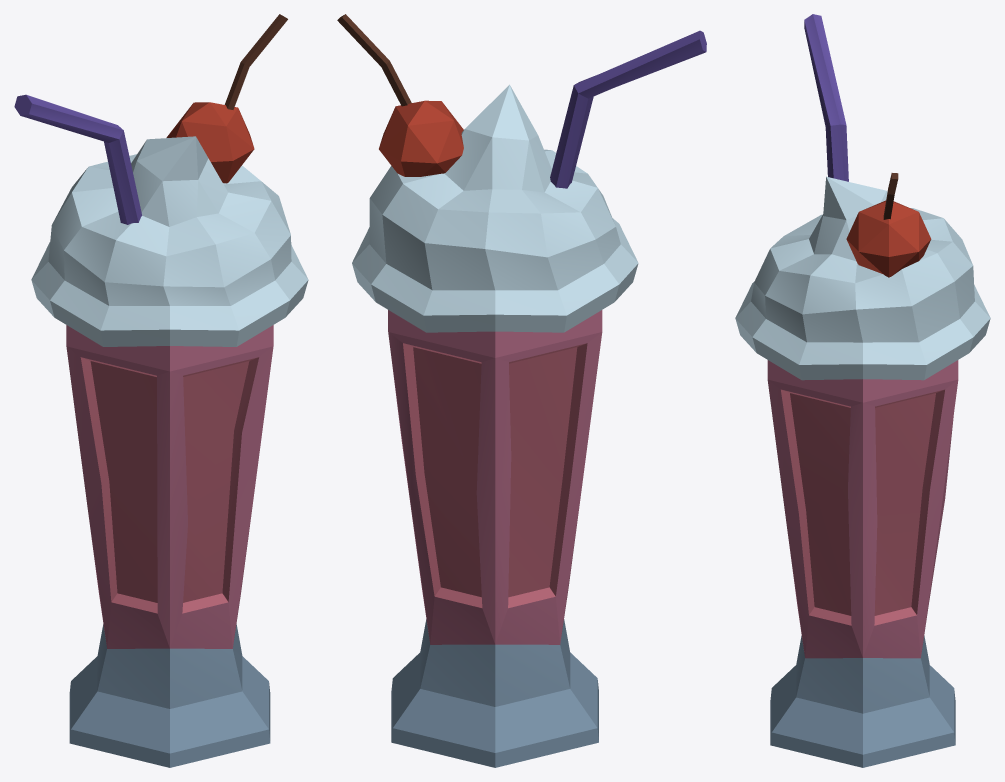
File: Objet3_07.glb
The picture shows the model from 3 angles, left to right: view 1: azimuth 30°, elevation 25°; view 2: azimuth 150°, elevation 25°; view 3: azimuth 270°, elevation 25°; orthographic projection. The views are drawn at different scales.
Visible parts, largest first — view 1: SM_Prop_LargeSign_Milkshake_01; view 2: SM_Prop_LargeSign_Milkshake_01; view 3: SM_Prop_LargeSign_Milkshake_01.
Boxes of the visible parts, x1=… form: SM_Prop_LargeSign_Milkshake_01: x1=14, y1=14, x2=308, y2=767; SM_Prop_LargeSign_Milkshake_01: x1=337, y1=14, x2=706, y2=767; SM_Prop_LargeSign_Milkshake_01: x1=735, y1=14, x2=990, y2=767.
Size of the model in its own units: 2.24 by 4.7 by 1.72.
1 material, 1 textured.
